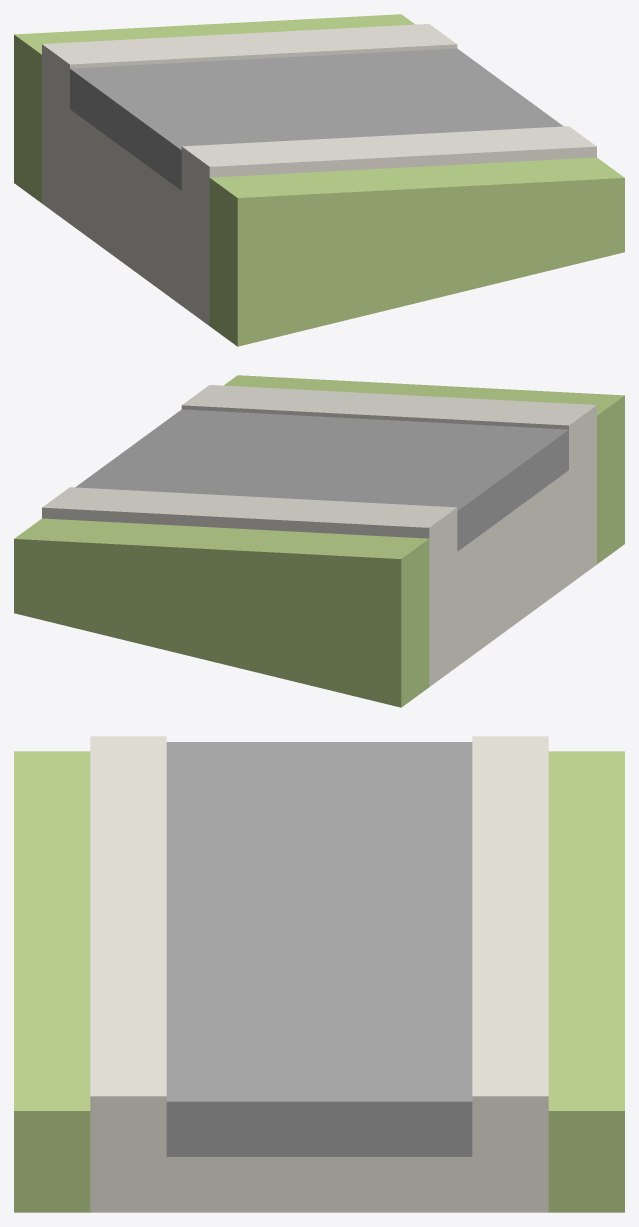
Rendered from road-tile-192.glb.
The picture shows the model from 3 angles, top to bottom: view 1: azimuth 30°, elevation 25°; view 2: azimuth 150°, elevation 25°; view 3: azimuth 270°, elevation 25°; orthographic projection. The views are drawn at different scales.
Parts seen in each view (by area): view 1: roadTile_192_Grass, roadTile_192_Stone, roadTile_192_Asphalt; view 2: roadTile_192_Grass, roadTile_192_Stone, roadTile_192_Asphalt; view 3: roadTile_192_Asphalt, roadTile_192_Stone, roadTile_192_Grass.
Part boxes in pixels (x1=…): roadTile_192_Grass: x1=14, y1=14, x2=624, y2=346; roadTile_192_Stone: x1=42, y1=24, x2=596, y2=325; roadTile_192_Asphalt: x1=70, y1=48, x2=563, y2=190; roadTile_192_Grass: x1=14, y1=375, x2=624, y2=707; roadTile_192_Stone: x1=42, y1=385, x2=596, y2=686; roadTile_192_Asphalt: x1=75, y1=409, x2=568, y2=551; roadTile_192_Asphalt: x1=166, y1=742, x2=472, y2=1156; roadTile_192_Stone: x1=90, y1=736, x2=548, y2=1212; roadTile_192_Grass: x1=14, y1=751, x2=624, y2=1212.
Bounding box in the file's own units: 3 × 1.18 × 3.
